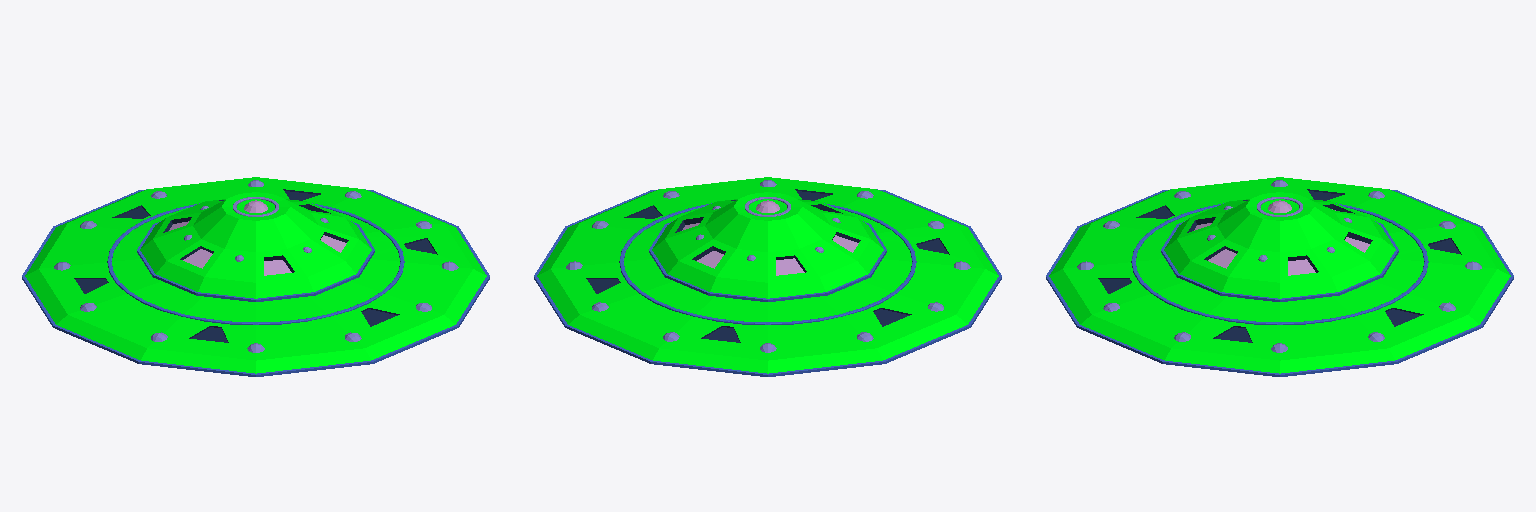
The picture shows the model from 3 angles: view 1: azimuth 30°, elevation 25°; view 2: azimuth 150°, elevation 25°; view 3: azimuth 270°, elevation 25°; orthographic projection.
Bounding box in the file's own units: 424 × 108 × 424.
Materials: 1 (1 with a texture image).